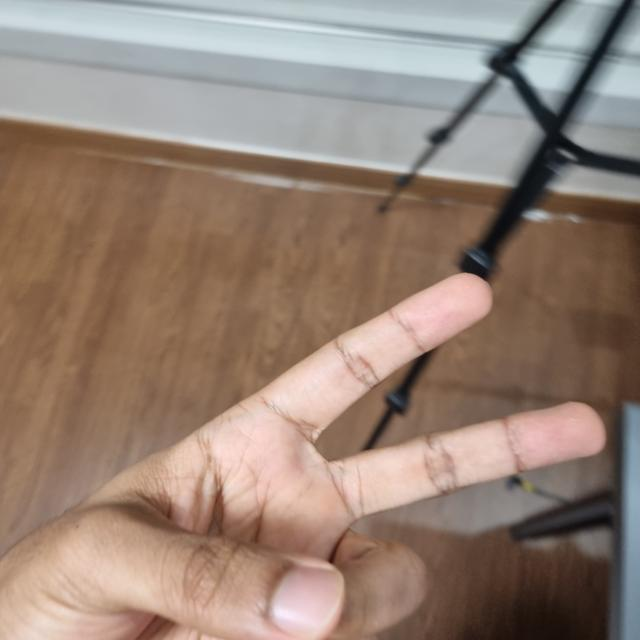Scissors: (4, 276, 611, 638)
